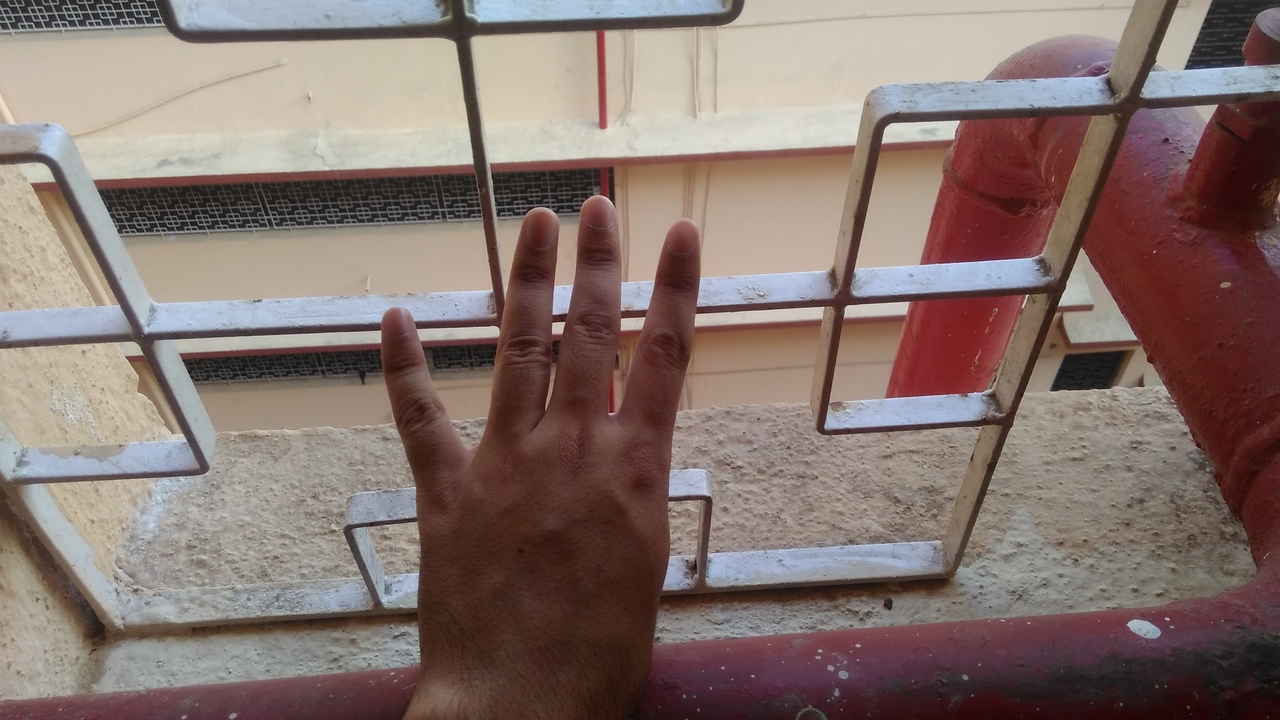fingertip: (570, 182, 624, 238), (510, 200, 564, 250), (654, 210, 706, 260), (368, 300, 420, 346)
